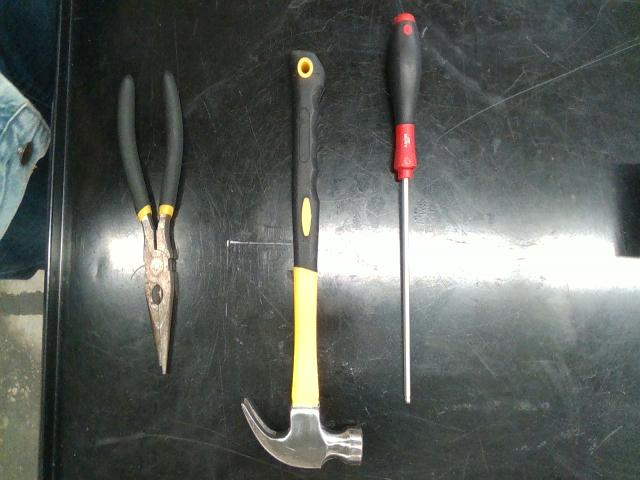Hammer: (241, 52, 362, 468)
Needle-nose pliers: (118, 72, 182, 372)
Screwdriver: (389, 13, 421, 402)
